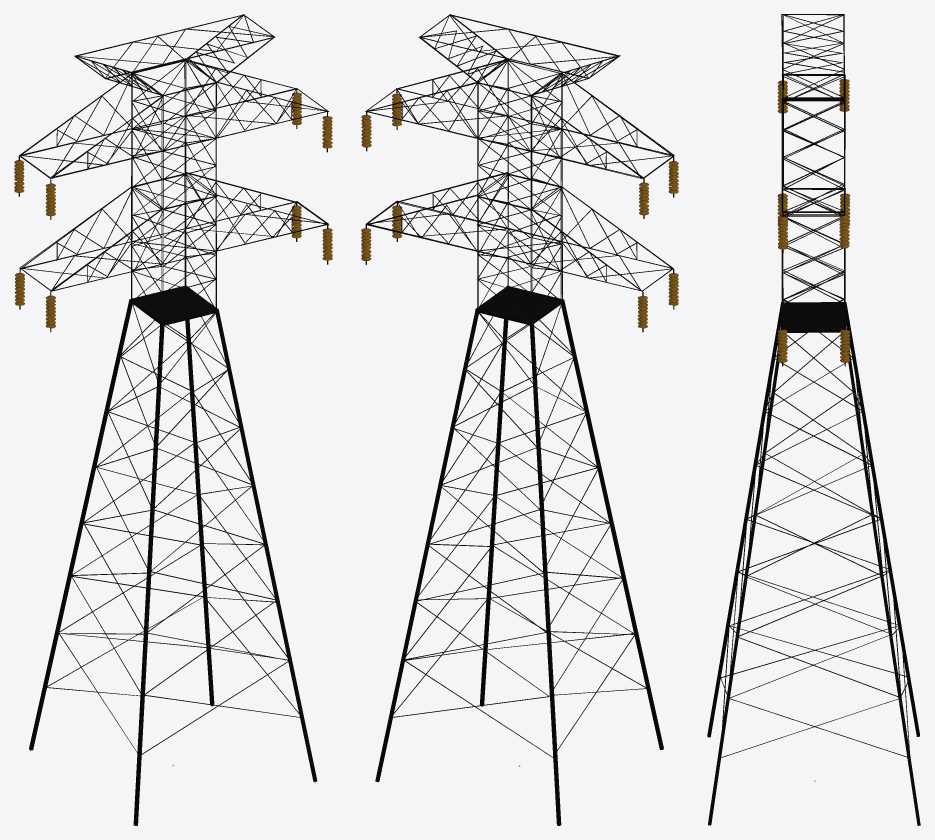
The model's file is tower2.glb.
3 renders of one model, left to right at view 1: azimuth 30°, elevation 25°; view 2: azimuth 150°, elevation 25°; view 3: azimuth 270°, elevation 25°, orthographic.
Visible parts, largest first — view 1: Node1; view 2: Node1; view 3: Node1.
Boxes of the visible parts, x1,y1,x2,y2 form: Node1: [14, 14, 332, 825]; Node1: [361, 14, 678, 825]; Node1: [707, 14, 920, 825].
Bounding box in the file's own units: 520 × 1249 × 333.
